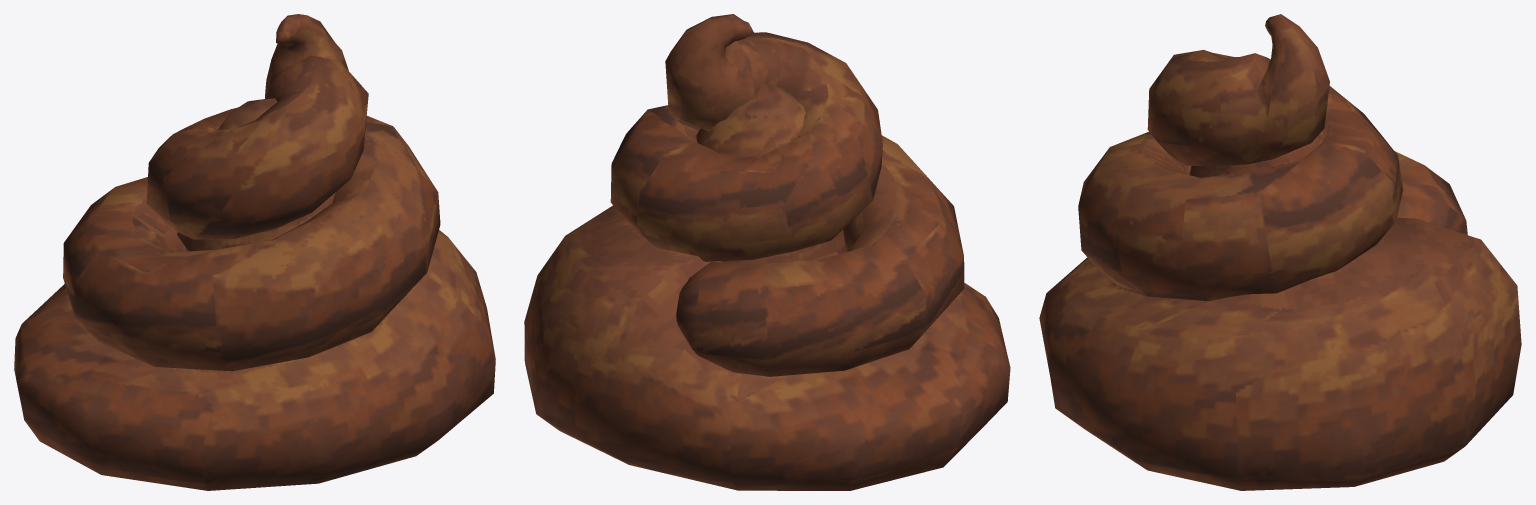
File: CI03_Poop.fbx
3 views of the same model, side by side, from view 1: azimuth 30°, elevation 25°; view 2: azimuth 150°, elevation 25°; view 3: azimuth 270°, elevation 25° (orthographic). The views are drawn at different scales.
Parts seen in each view (by area): view 1: CI03_Poop; view 2: CI03_Poop; view 3: CI03_Poop.
Boxes of the visible parts, box(x1,y1,x2,y2) form: CI03_Poop: box(14, 14, 495, 490); CI03_Poop: box(524, 14, 1010, 490); CI03_Poop: box(1039, 14, 1521, 490).
Bounding box in the file's own units: 0.2164 × 0.184 × 0.2006.
Materials: 1 (1 with a texture image).
